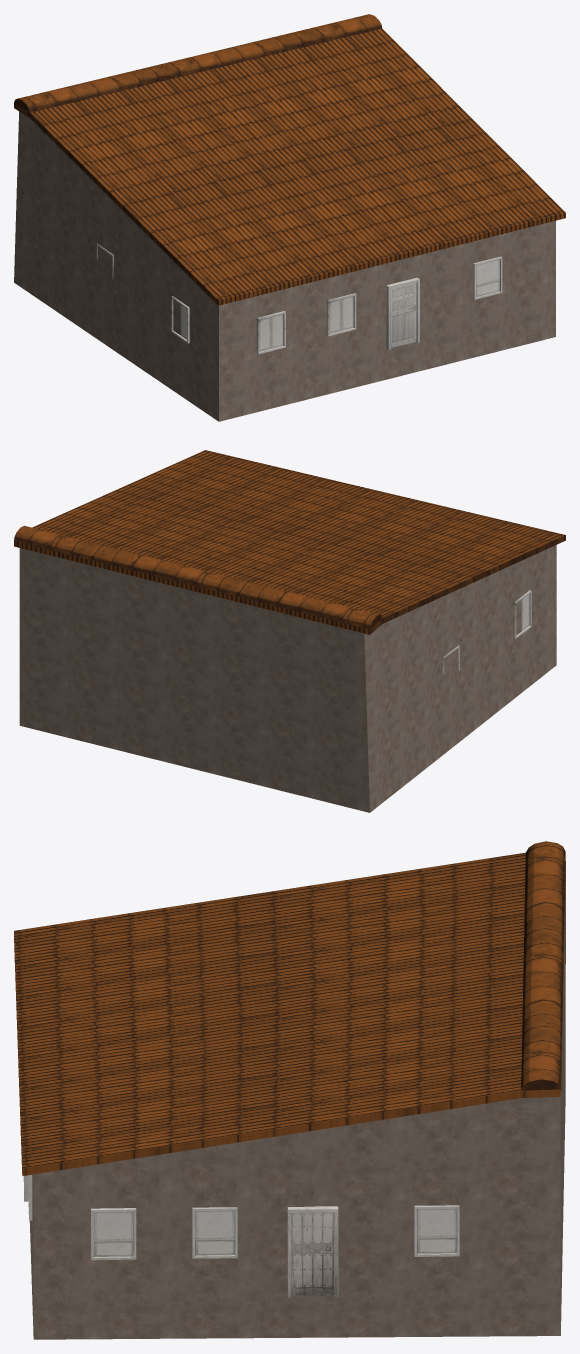
Rendered from Casa_19.fbx.
3 views of the same model, one above another, from view 1: azimuth 30°, elevation 25°; view 2: azimuth 150°, elevation 25°; view 3: azimuth 270°, elevation 25° (orthographic). The views are drawn at different scales.
Visible parts, largest first — view 1: Casa_19; view 2: Casa_19; view 3: Casa_19.
Boxes of the visible parts, x1,y1,x2,y2 form: Casa_19: (14, 14, 565, 421); Casa_19: (14, 450, 565, 812); Casa_19: (14, 841, 565, 1339).
Size of the model in its own units: 11.86 by 5.96 by 11.43.
